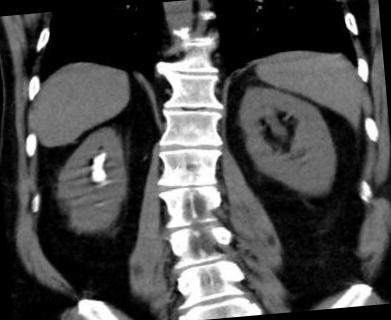Tas_Var: (88, 152, 107, 170), (90, 169, 107, 185)
